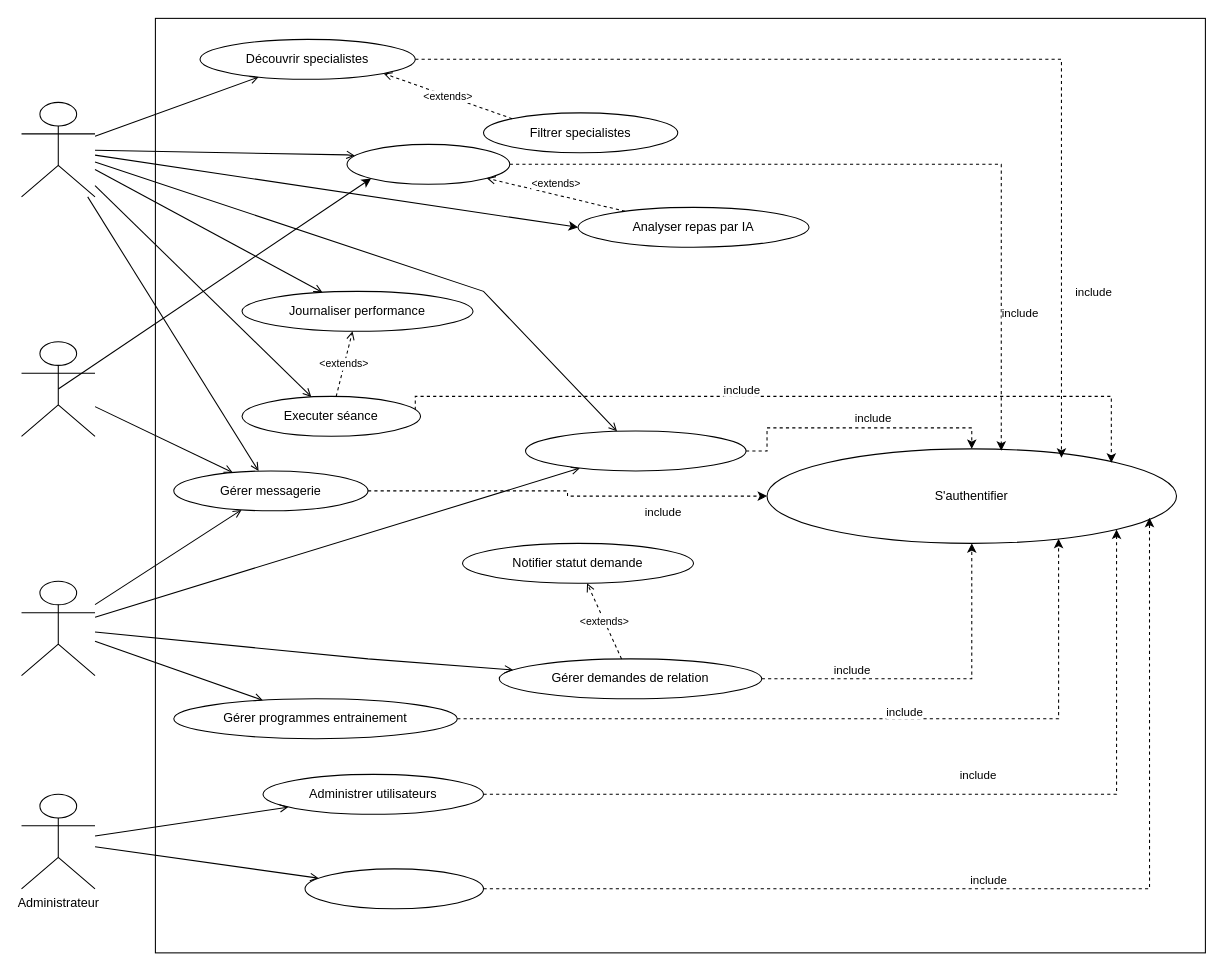
Image size: 1224x971. Some labels were removed from this diagram. Here are the shapes that lost their labels. From the top down, the box of each, then its label:
(20, 101, 95, 197): Athlete
(346, 143, 510, 184): Gérer nutrition
(20, 341, 95, 436): Nutritionniste
(524, 430, 746, 471): Gérer agenda sessions
(20, 580, 95, 676): Coach
(304, 868, 484, 909): Consulter tableaux de bord
